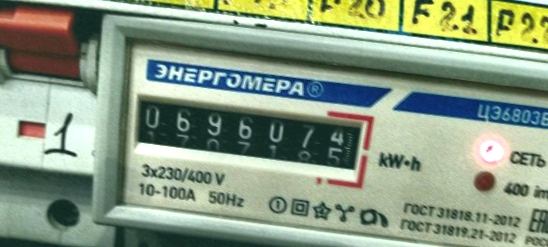0: (143, 101, 164, 129), (268, 116, 288, 144)
4: (331, 123, 347, 146)
5: (328, 145, 344, 166)
6: (237, 111, 257, 140), (174, 105, 195, 132)
7: (299, 121, 318, 149)
9: (206, 109, 226, 137)
screen: (125, 80, 379, 190)
